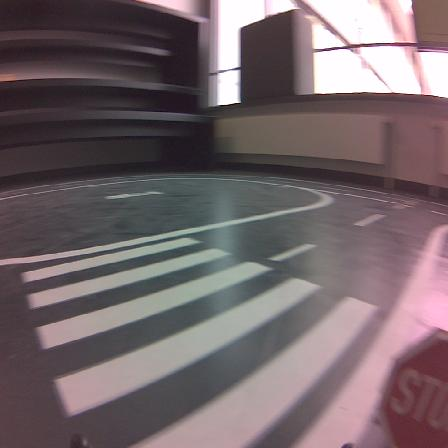STOP: (381, 330, 447, 447)
